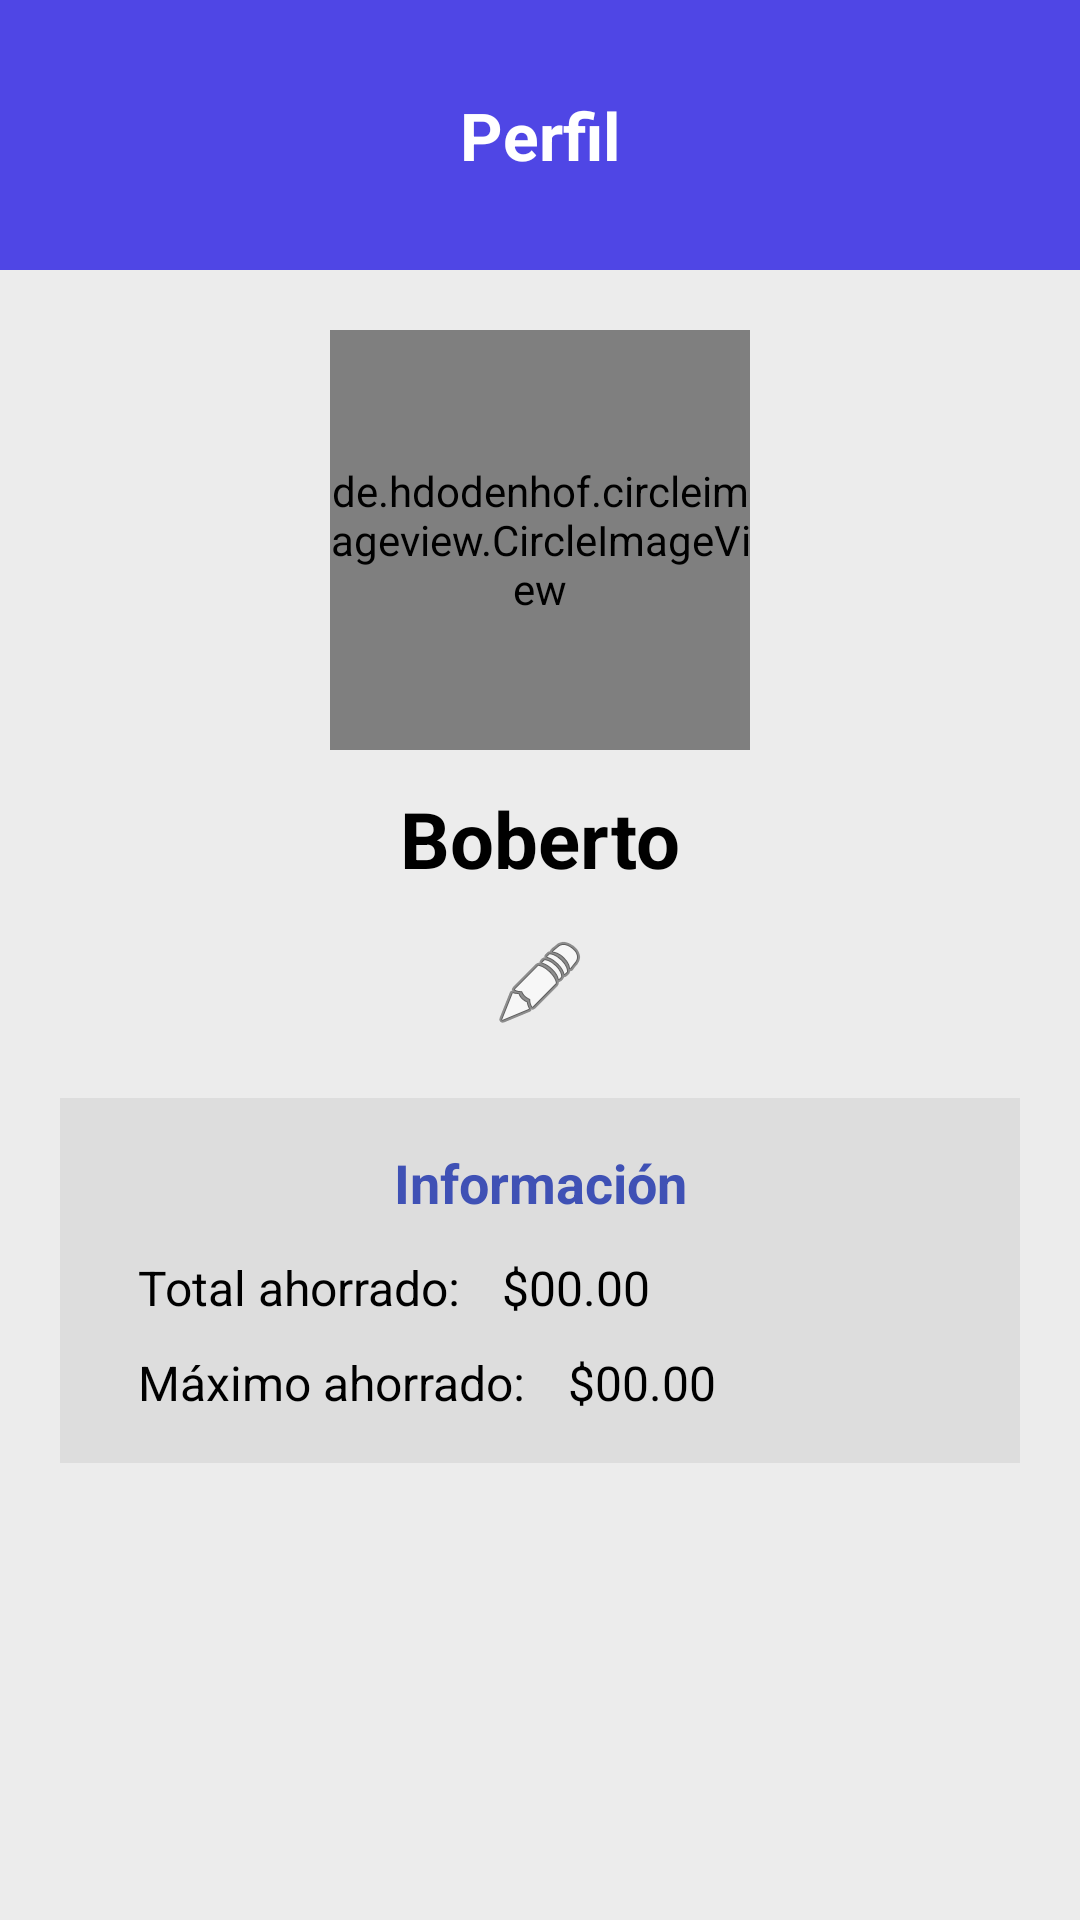

Named icons in this screenshot (1080 x 1920) and their bounding boxes, (x1, y1, x2, y2):
edit: (499, 942, 580, 1023)
